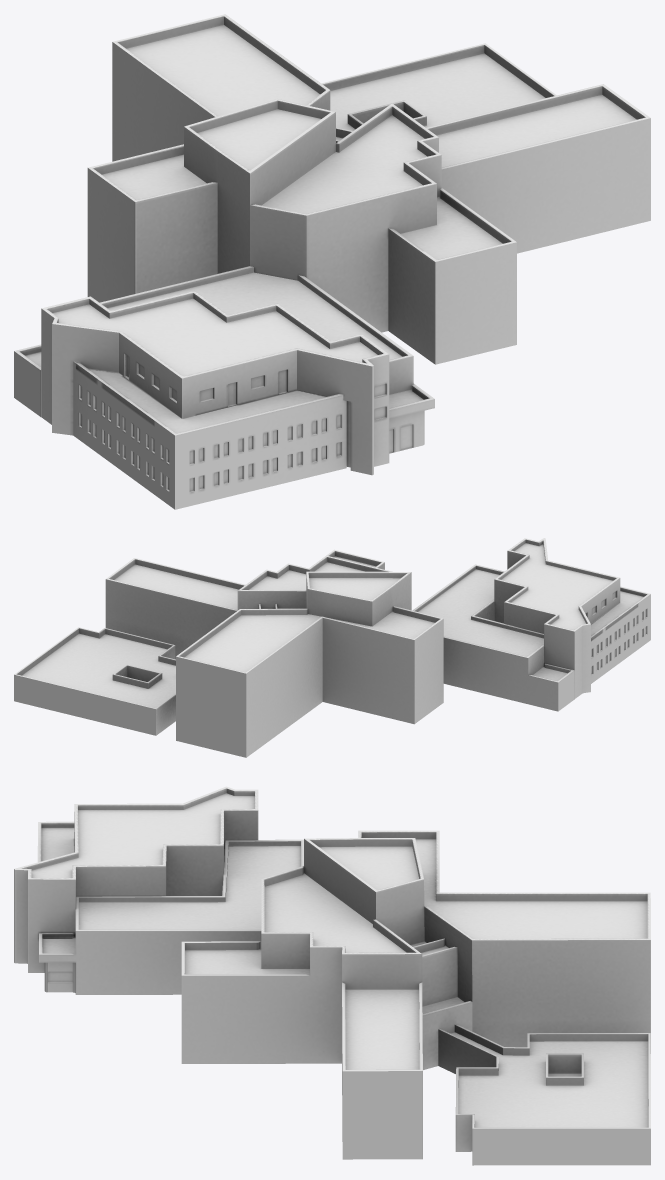
File: kavala_building20.glb
The picture shows the model from 3 angles, top to bottom: view 1: azimuth 30°, elevation 25°; view 2: azimuth 150°, elevation 25°; view 3: azimuth 270°, elevation 25°; orthographic projection. The views are drawn at different scales.
Visible parts, largest first — view 1: building_v010; view 2: building_v010; view 3: building_v010.
Boxes of the visible parts, bbox=[...] form: building_v010: bbox=[14, 14, 650, 509]; building_v010: bbox=[14, 538, 650, 757]; building_v010: bbox=[14, 786, 650, 1165].
Size of the model in its own units: 8.33 by 1.95 by 7.85.
Materials: 1 (1 with a texture image).
